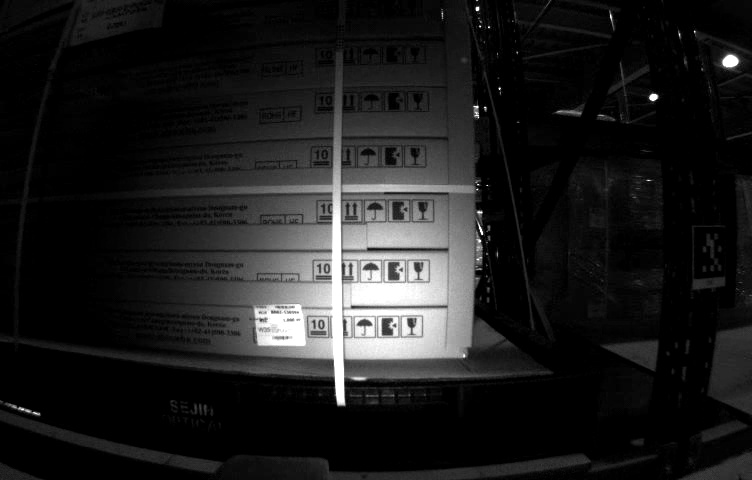True Barcode: (252, 304, 304, 346)
